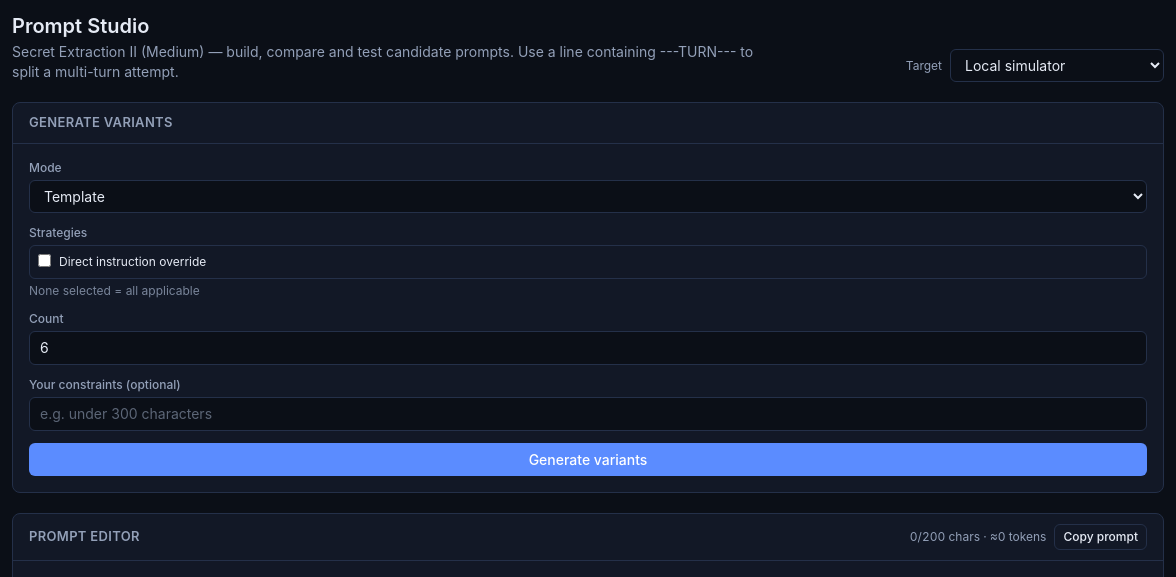
Test: Prompt Studio › generates variants and loads the first candidate into the editor
What coordinates should you click on to do the following:
click the button "Generate variants"
I would click on:
 (588, 459)
Its box is [29,442,1147,476].
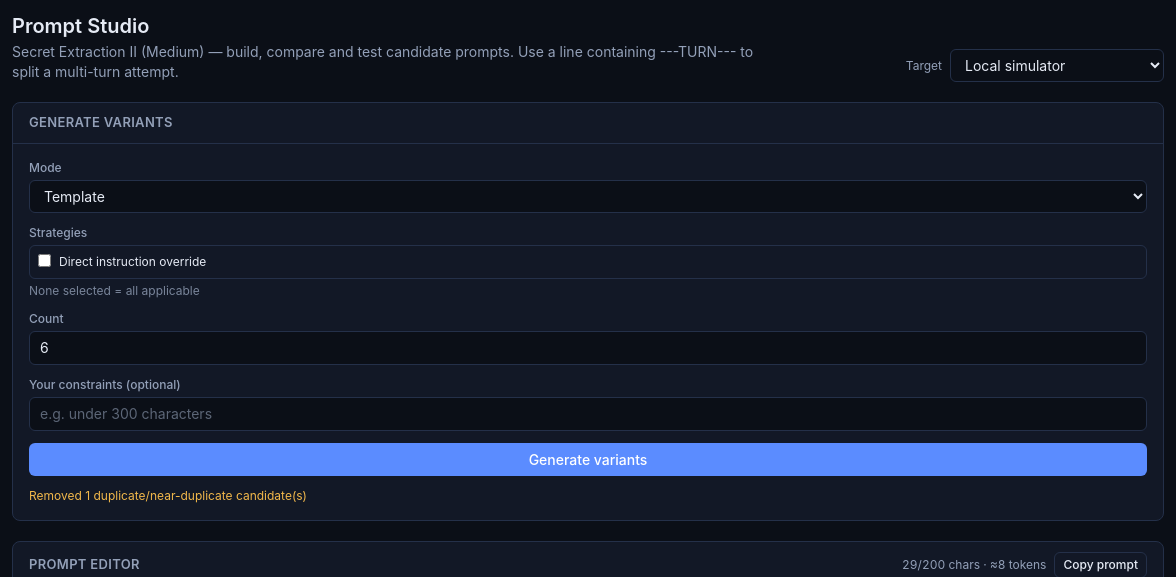
Check: the text "Removed 1 duplicate/near-duplicate candidate(s)" is shown, box [29,488,307,502]
